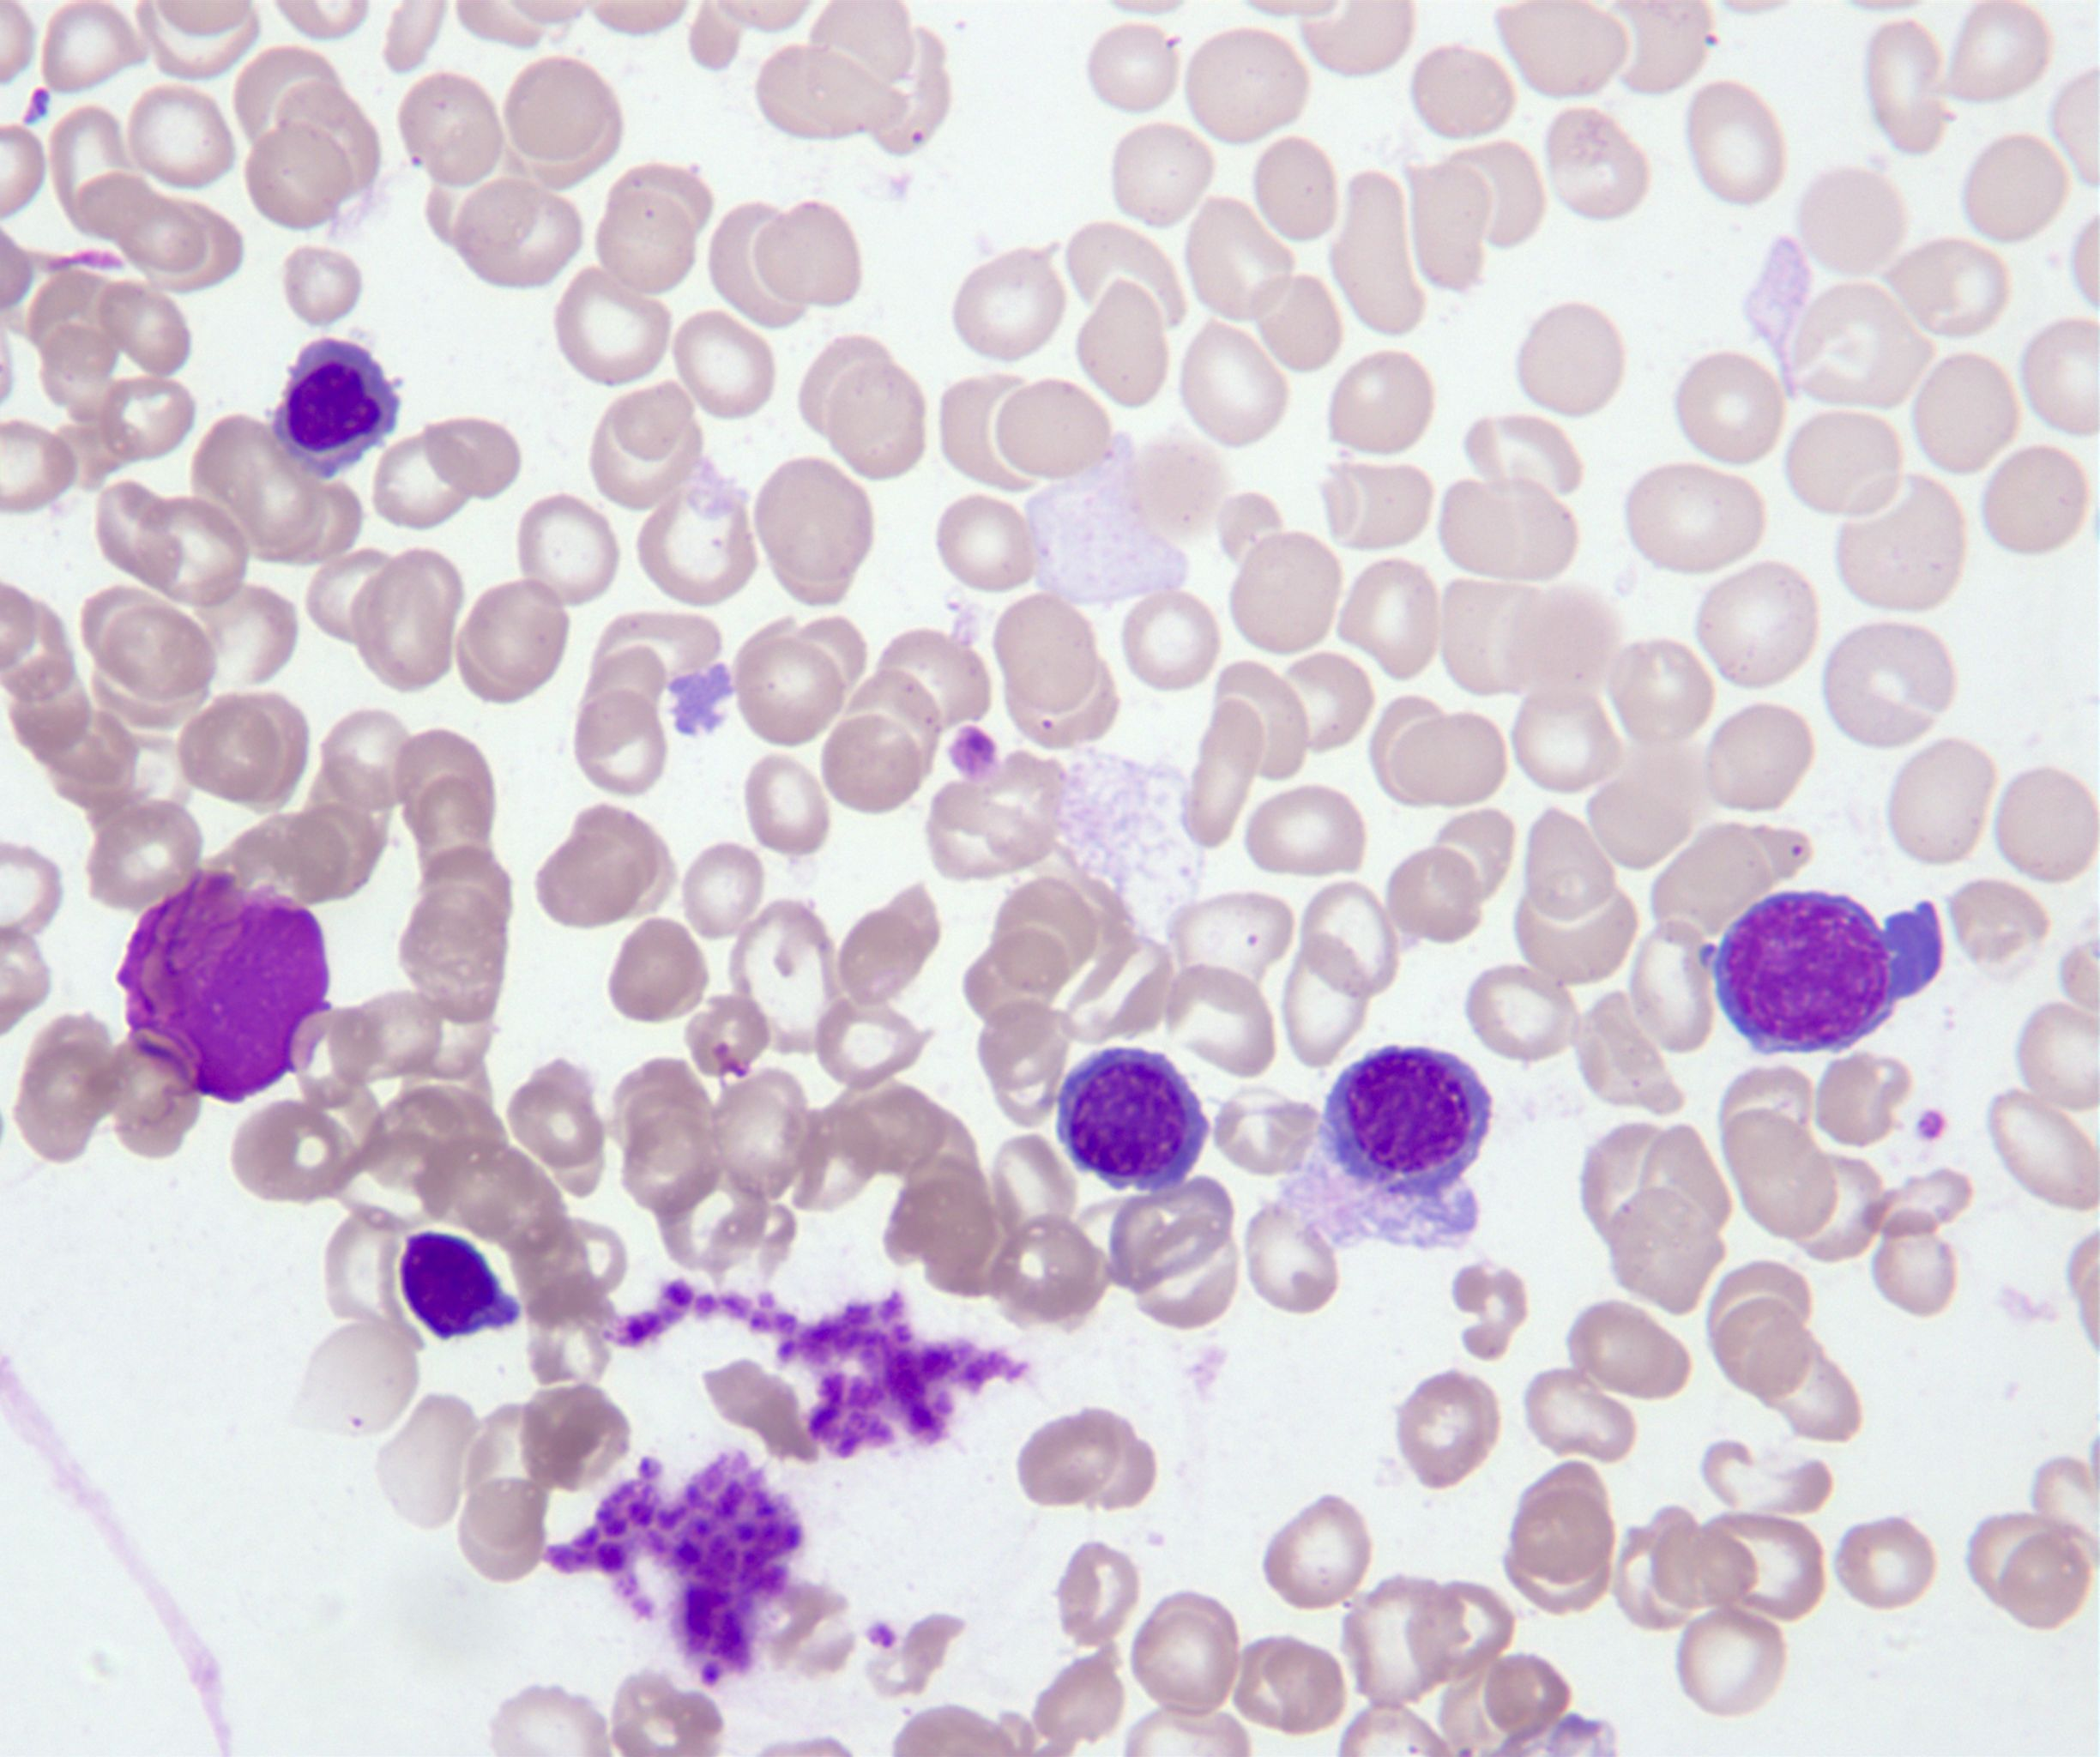23: (1270, 1049, 1490, 1253), (1702, 890, 1941, 1054), (1059, 1049, 1210, 1193)
24: (272, 338, 398, 478)
32: (401, 1232, 523, 1342)
x: (115, 872, 330, 1104)
